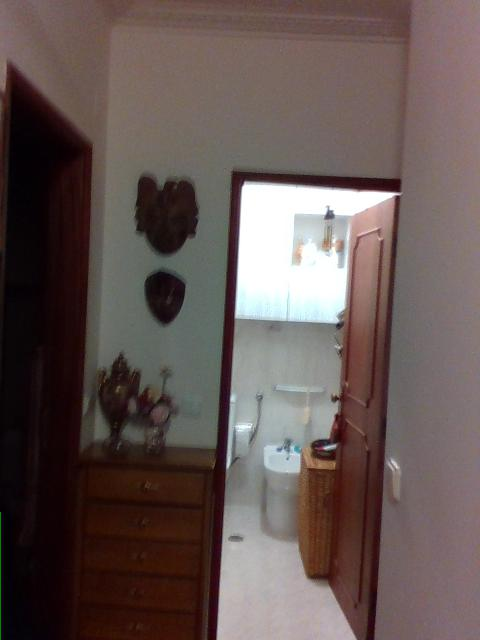door: (331, 194, 400, 640)
